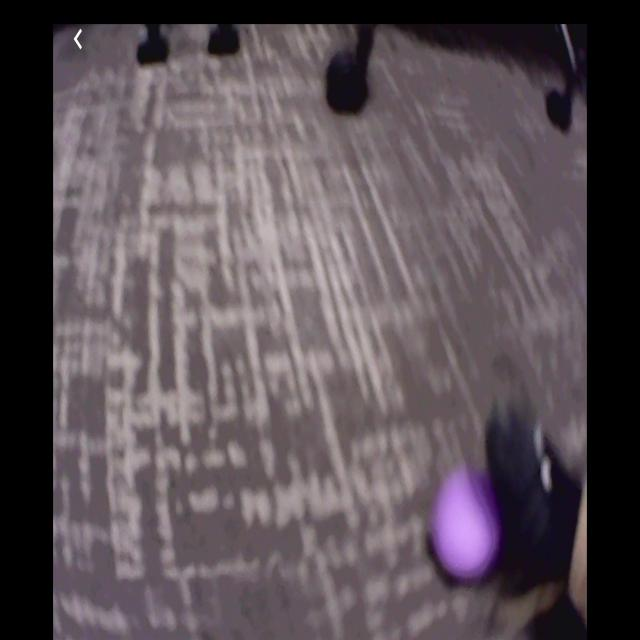ball: (432, 470, 496, 578)
